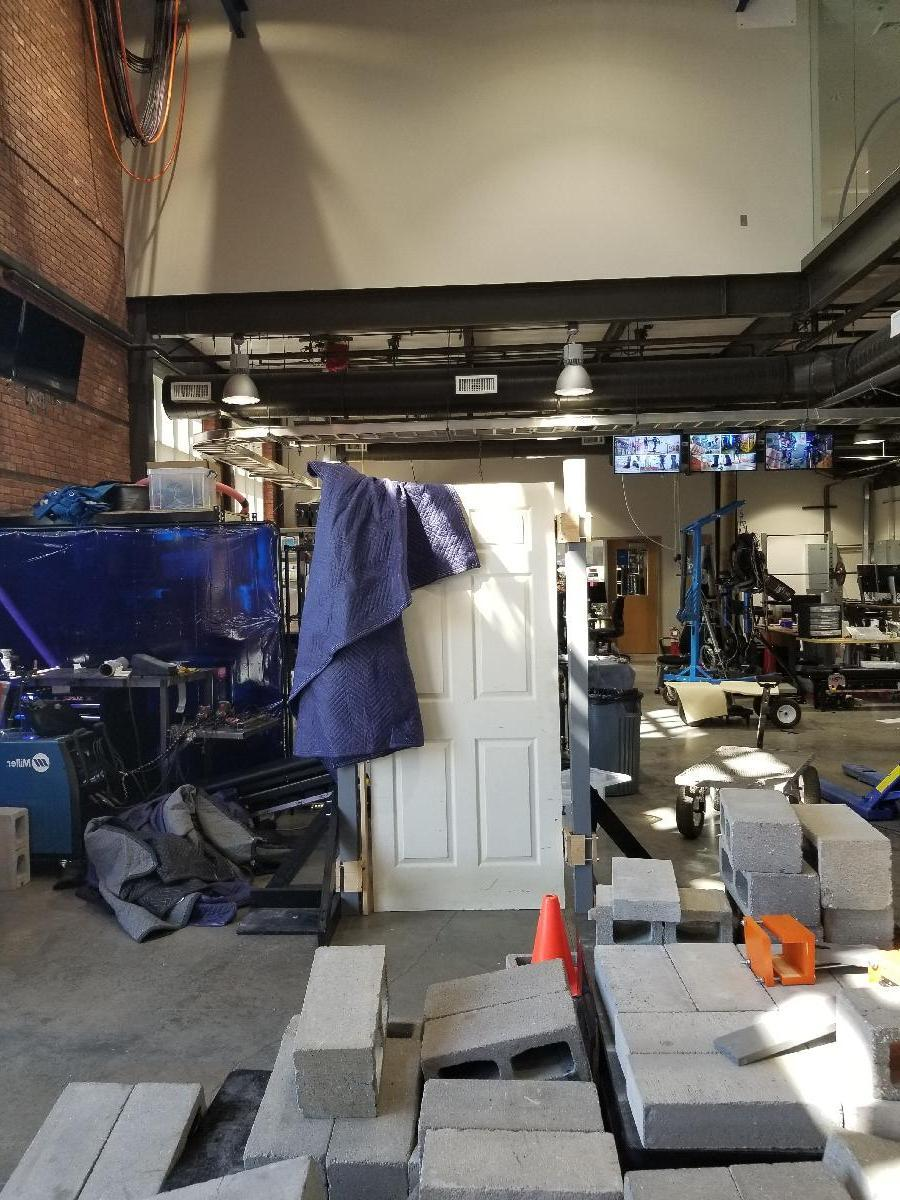door: (368, 478, 556, 919), (607, 534, 663, 652)
